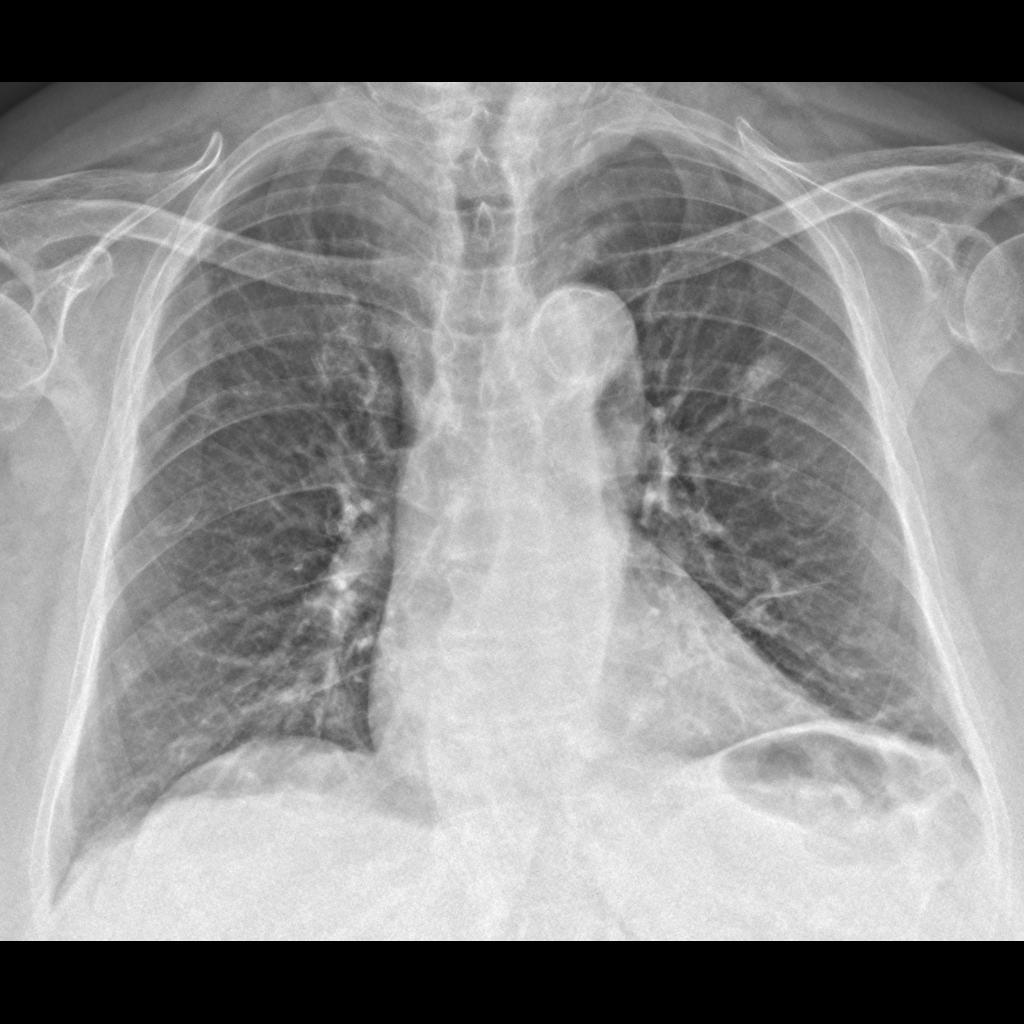Nodule: (739, 344, 791, 411)
